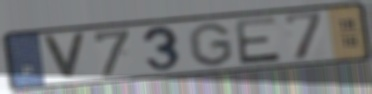3: (141, 24, 186, 75)
7: (283, 10, 326, 63), (92, 28, 132, 78)
E: (232, 15, 284, 67)
G: (186, 21, 236, 68)
V: (39, 32, 89, 81)
